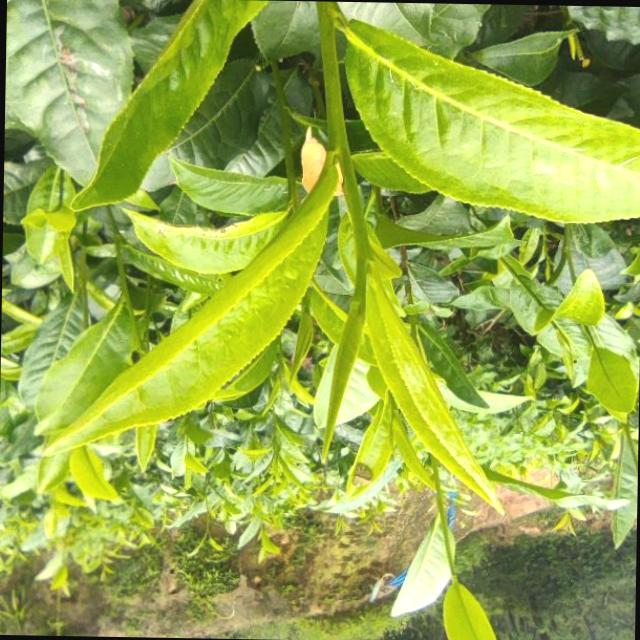Stem: (347, 206, 371, 255), (435, 496, 442, 509), (205, 521, 208, 530)
